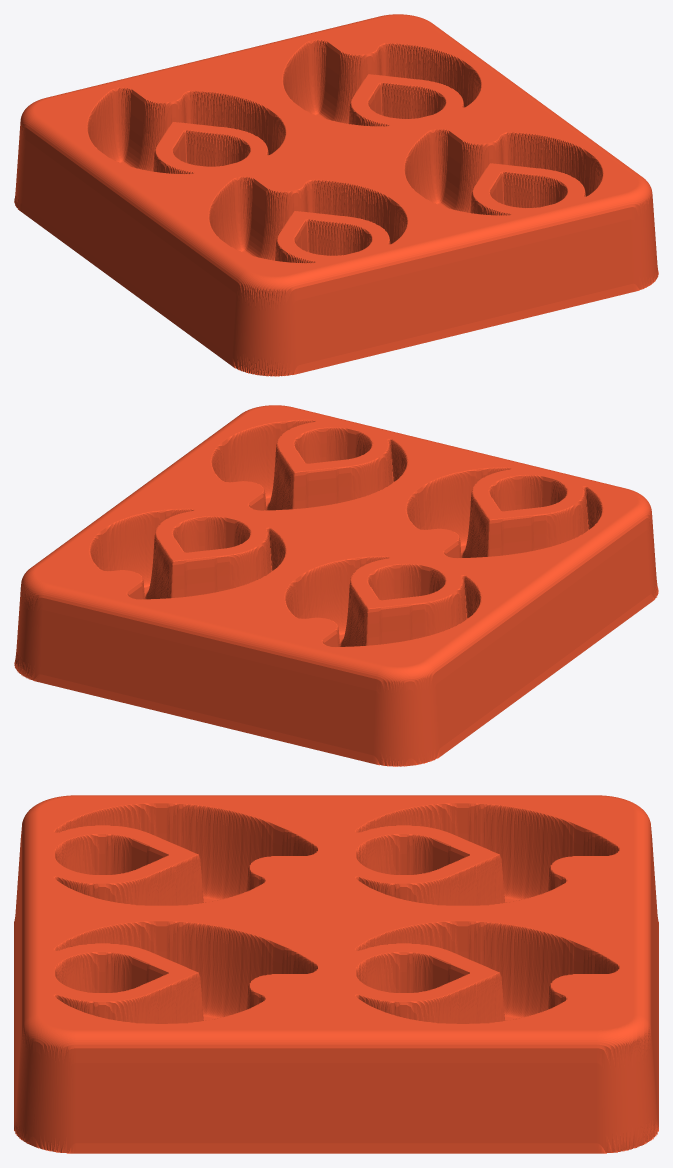
The model's file is mold.glb.
The picture shows the model from 3 angles, top to bottom: view 1: azimuth 30°, elevation 25°; view 2: azimuth 150°, elevation 25°; view 3: azimuth 270°, elevation 25°; orthographic projection. The views are drawn at different scales.
Visible parts, largest first — view 1: geometry_0; view 2: geometry_0; view 3: geometry_0.
Part boxes in pixels (x1,y1,x2,y2): geometry_0: [14, 14, 658, 376]; geometry_0: [14, 405, 658, 766]; geometry_0: [14, 795, 658, 1153].
Bounding box in the file's own units: 0.0878 × 0.0182 × 0.0942.
